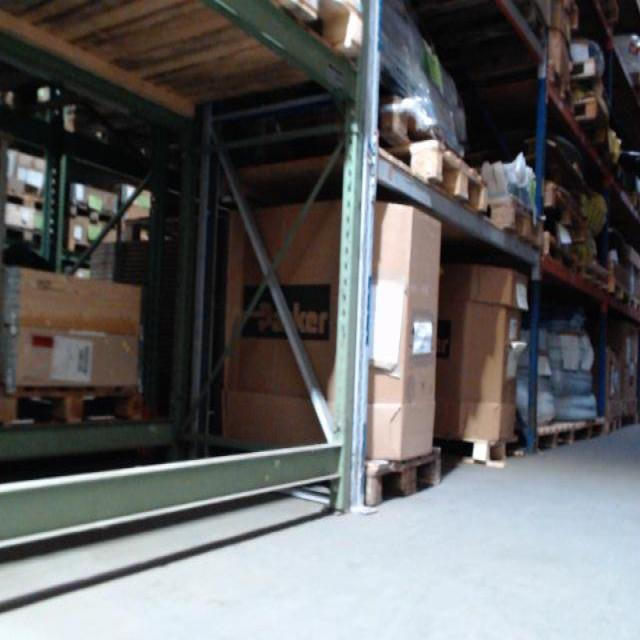pallet: (392, 143, 489, 216), (0, 383, 144, 431), (274, 0, 364, 57), (362, 448, 440, 508), (488, 196, 544, 249), (540, 231, 578, 275), (573, 99, 609, 143), (547, 65, 575, 114), (67, 199, 119, 225), (2, 187, 51, 214), (472, 436, 520, 463), (0, 224, 52, 248), (572, 62, 604, 97)
